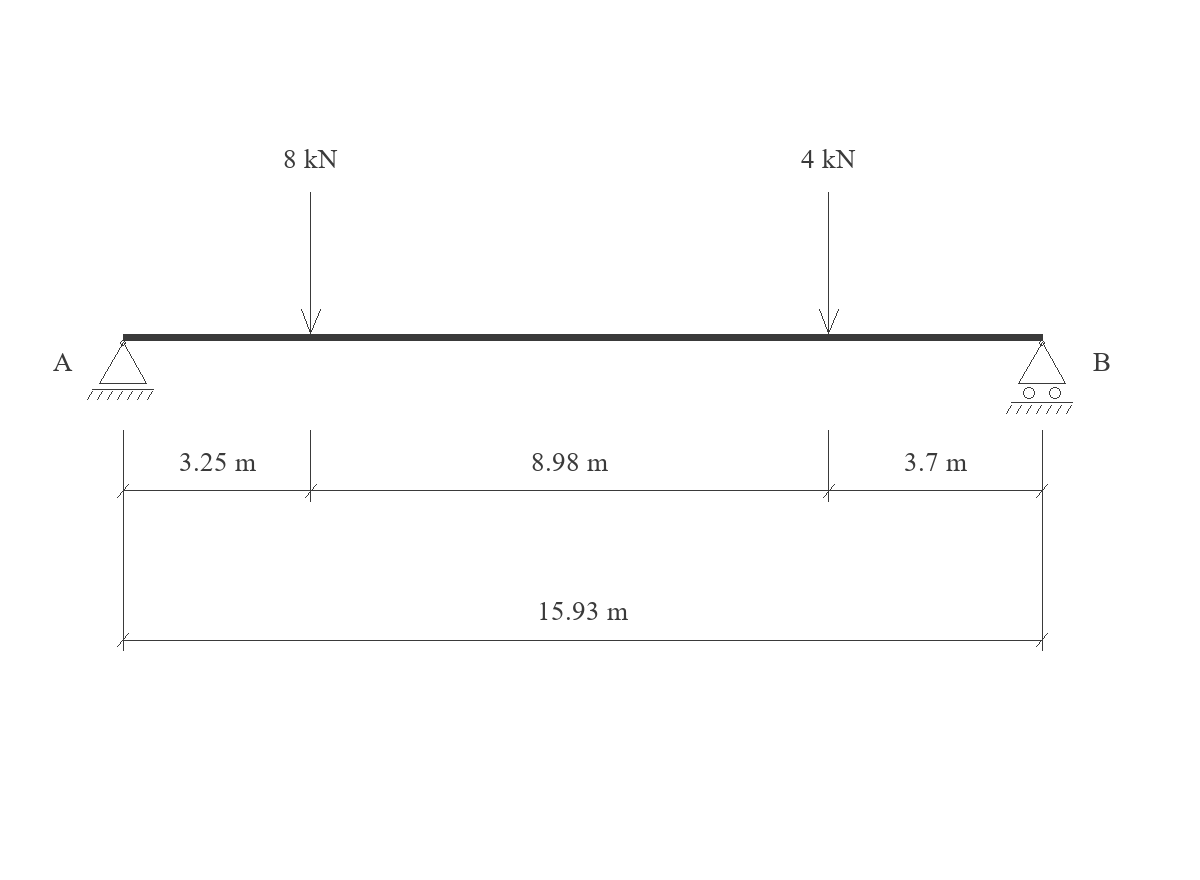pin_support: (87, 340, 154, 400)
point_load: (301, 192, 321, 334), (819, 192, 839, 334)
roller_support: (1006, 340, 1073, 414)
